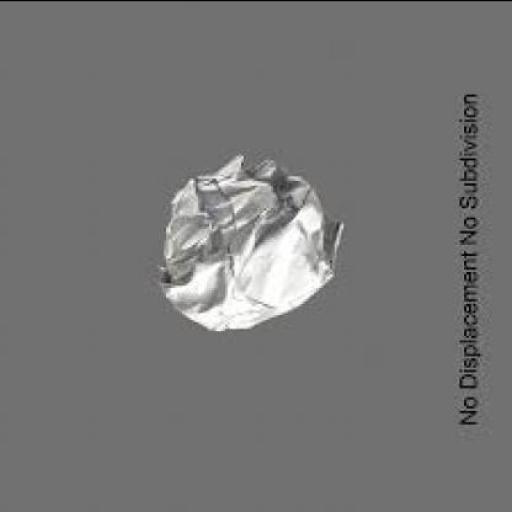paper: (152, 155, 344, 332)
